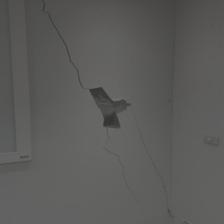High: (35, 1, 177, 224)
